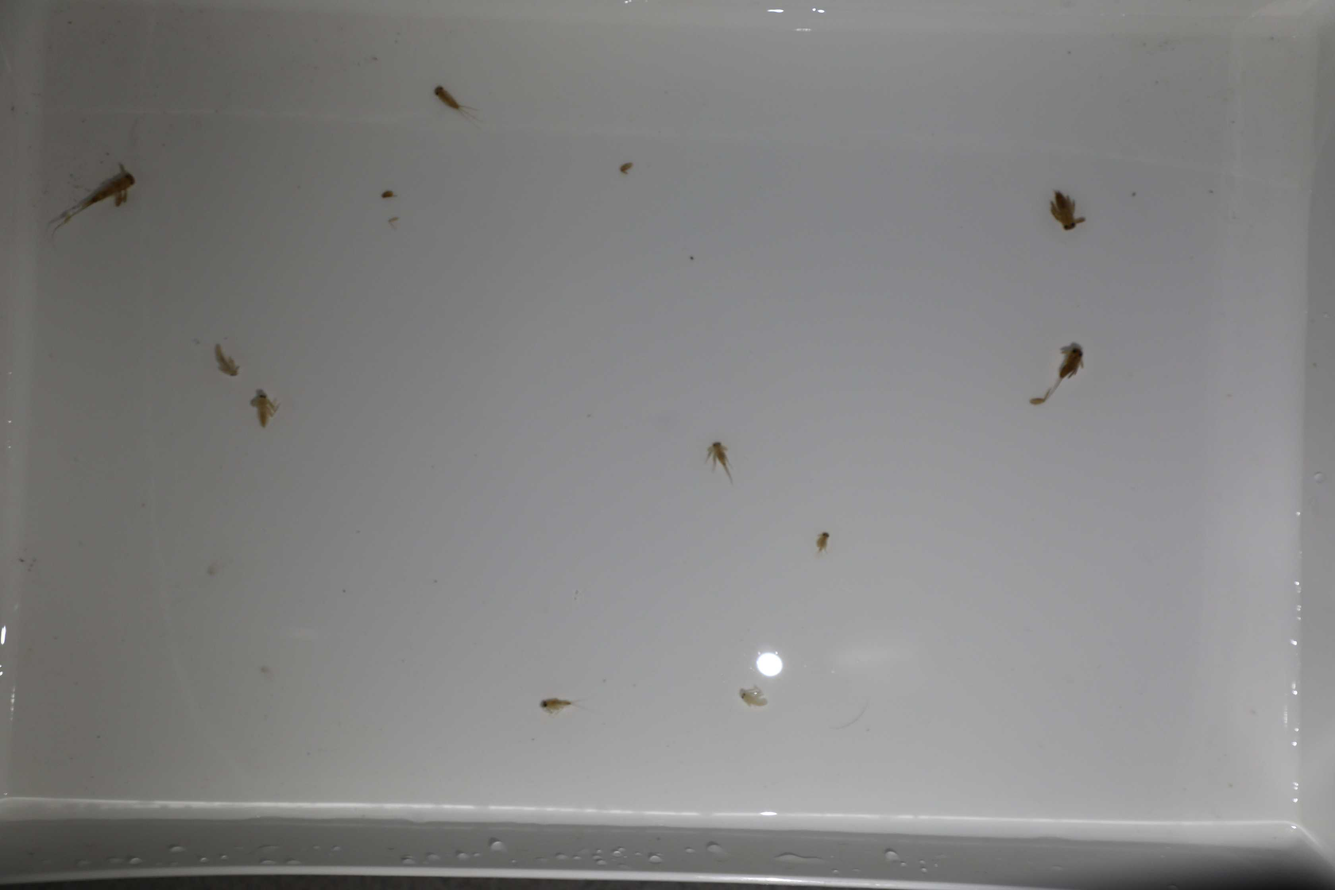Mayfly: (45, 159, 137, 244), (431, 81, 484, 127), (1044, 187, 1083, 238), (528, 690, 585, 723), (703, 438, 740, 485), (1047, 347, 1086, 386), (208, 335, 239, 380), (248, 390, 277, 424), (730, 684, 769, 707), (814, 528, 834, 556)
